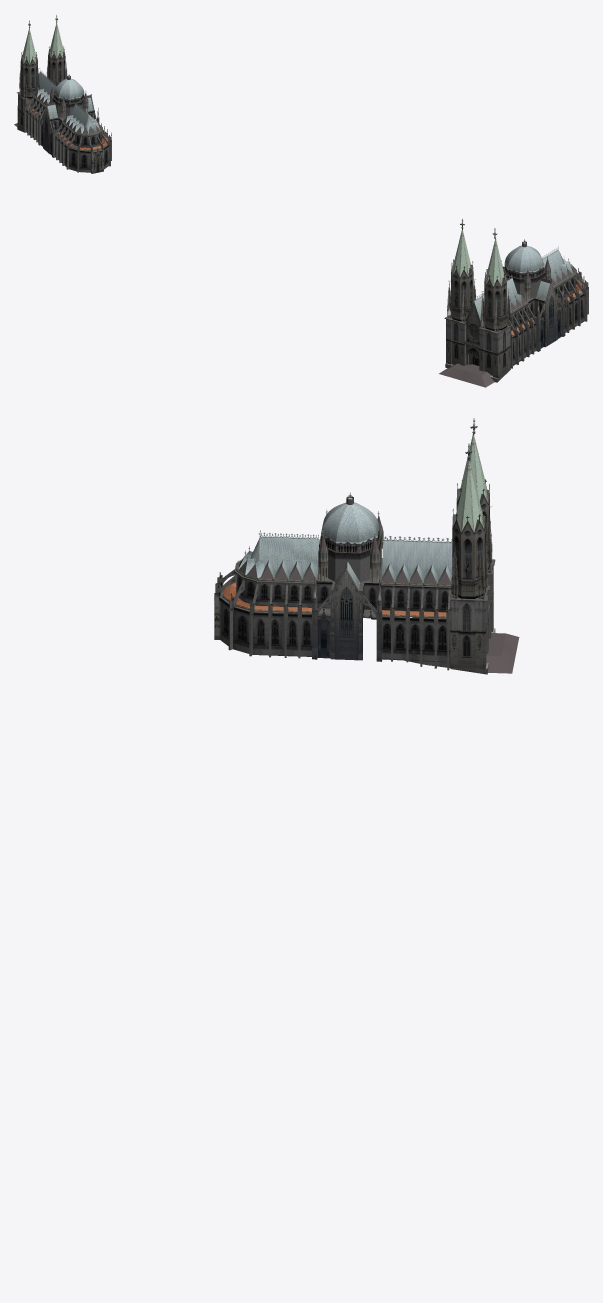
The model's file is catedral_da_se_de_sao_paulo.glb.
The picture shows the model from 3 angles, top to bottom: view 1: azimuth 30°, elevation 25°; view 2: azimuth 150°, elevation 25°; view 3: azimuth 270°, elevation 25°; orthographic projection. The views are drawn at different scales.
Visible parts, largest first — view 1: Mesh83__165_0, Mesh83__164_0, Mesh83__36_228_0, Mesh83__7_134_0, Mesh83__14_179_0, Mesh83__11_51_0, Mesh83__188_0, Mesh83__173_0, Mesh83__19_11_0, Mesh83__185_0, Mesh83__39_79_0; view 2: Mesh83__165_0, Mesh83__164_0, Mesh83__11_51_0, Mesh83__7_134_0, Mesh83__188_0, Mesh83__173_0, Mesh83__11_54_0, Mesh83__36_228_0, Mesh83__11_52_0, Mesh83__185_0, Mesh83__163_0, Mesh83__39_74_0 (+9 smaller); view 3: Mesh83__164_0, Mesh83__165_0, Mesh83__36_228_0, Mesh83__11_51_0, Mesh83__36_260_0, Mesh83__7_134_0, Mesh83__173_0, Mesh83__36_259_0, Mesh83__185_0.
Part boxes in pixels (<box>): Mesh83__165_0: <box>17,49,111,172</box>; Mesh83__164_0: <box>37,72,100,133</box>; Mesh83__36_228_0: <box>33,96,108,172</box>; Mesh83__7_134_0: <box>14,75,102,151</box>; Mesh83__14_179_0: <box>25,97,81,152</box>; Mesh83__11_51_0: <box>17,94,62,132</box>; Mesh83__188_0: <box>19,60,67,98</box>; Mesh83__173_0: <box>43,106,49,153</box>; Mesh83__19_11_0: <box>92,149,103,173</box>; Mesh83__185_0: <box>52,98,85,118</box>; Mesh83__39_79_0: <box>29,59,35,98</box>; Mesh83__165_0: <box>444,263,588,371</box>; Mesh83__164_0: <box>474,242,573,321</box>; Mesh83__11_51_0: <box>451,327,510,382</box>; Mesh83__7_134_0: <box>439,241,586,387</box>; Mesh83__188_0: <box>447,279,510,331</box>; Mesh83__173_0: <box>545,284,557,346</box>; Mesh83__11_54_0: <box>446,319,464,365</box>; Mesh83__36_228_0: <box>509,275,586,330</box>; Mesh83__11_52_0: <box>465,324,479,365</box>; Mesh83__185_0: <box>503,269,545,297</box>; Mesh83__163_0: <box>444,229,588,341</box>; Mesh83__39_74_0: <box>486,279,493,330</box>; Mesh83__164_0: <box>238,497,452,586</box>; Mesh83__165_0: <box>214,488,495,670</box>; Mesh83__36_228_0: <box>220,571,451,645</box>; Mesh83__11_51_0: <box>450,565,493,674</box>; Mesh83__36_260_0: <box>382,617,450,662</box>; Mesh83__7_134_0: <box>238,496,519,673</box>; Mesh83__173_0: <box>330,570,370,660</box>; Mesh83__36_259_0: <box>252,612,311,656</box>; Mesh83__185_0: <box>319,537,381,582</box>.
Bounding box in the file's own units: 4.64 × 1.95 × 1.83.
Materials: 100 (99 with a texture image).
